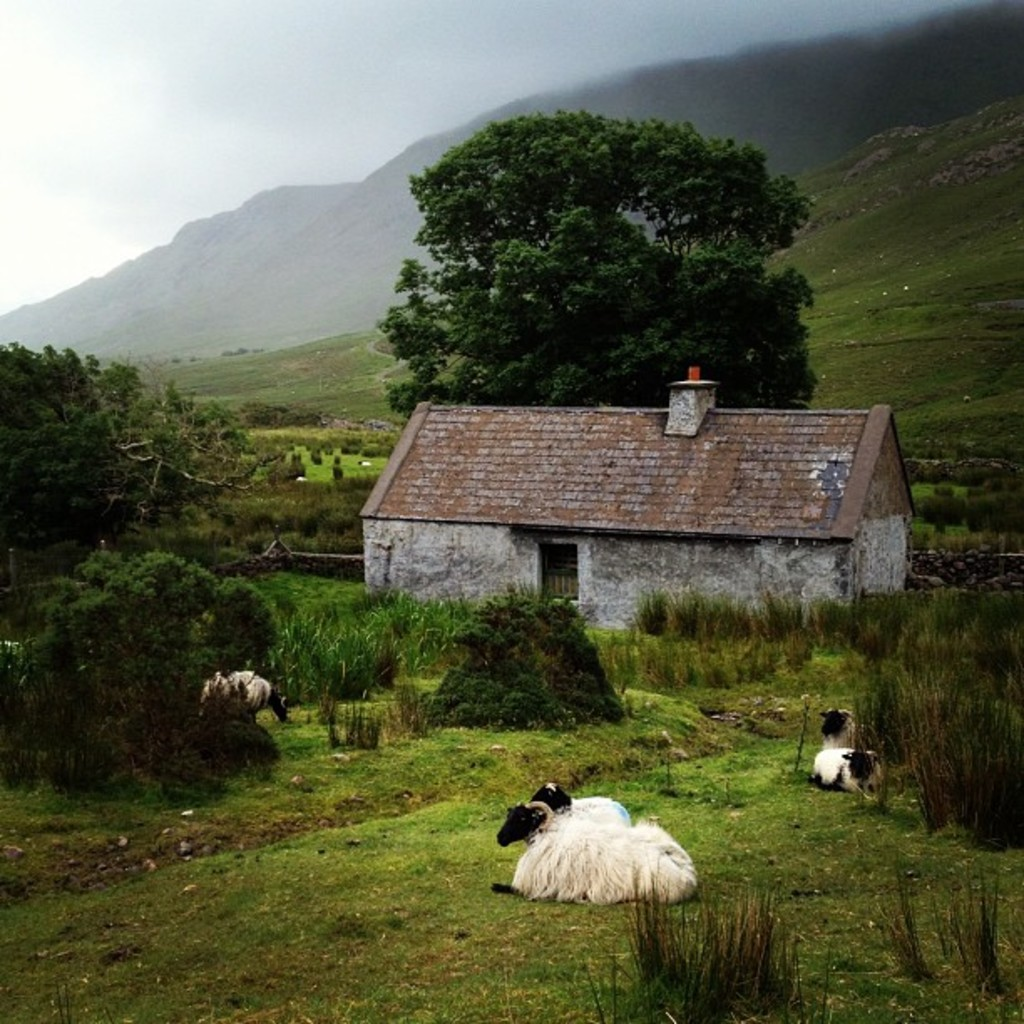Animal: (499, 800, 697, 906), (803, 701, 887, 795), (196, 658, 293, 720), (806, 745, 882, 802), (538, 785, 628, 822), (817, 699, 854, 739)
